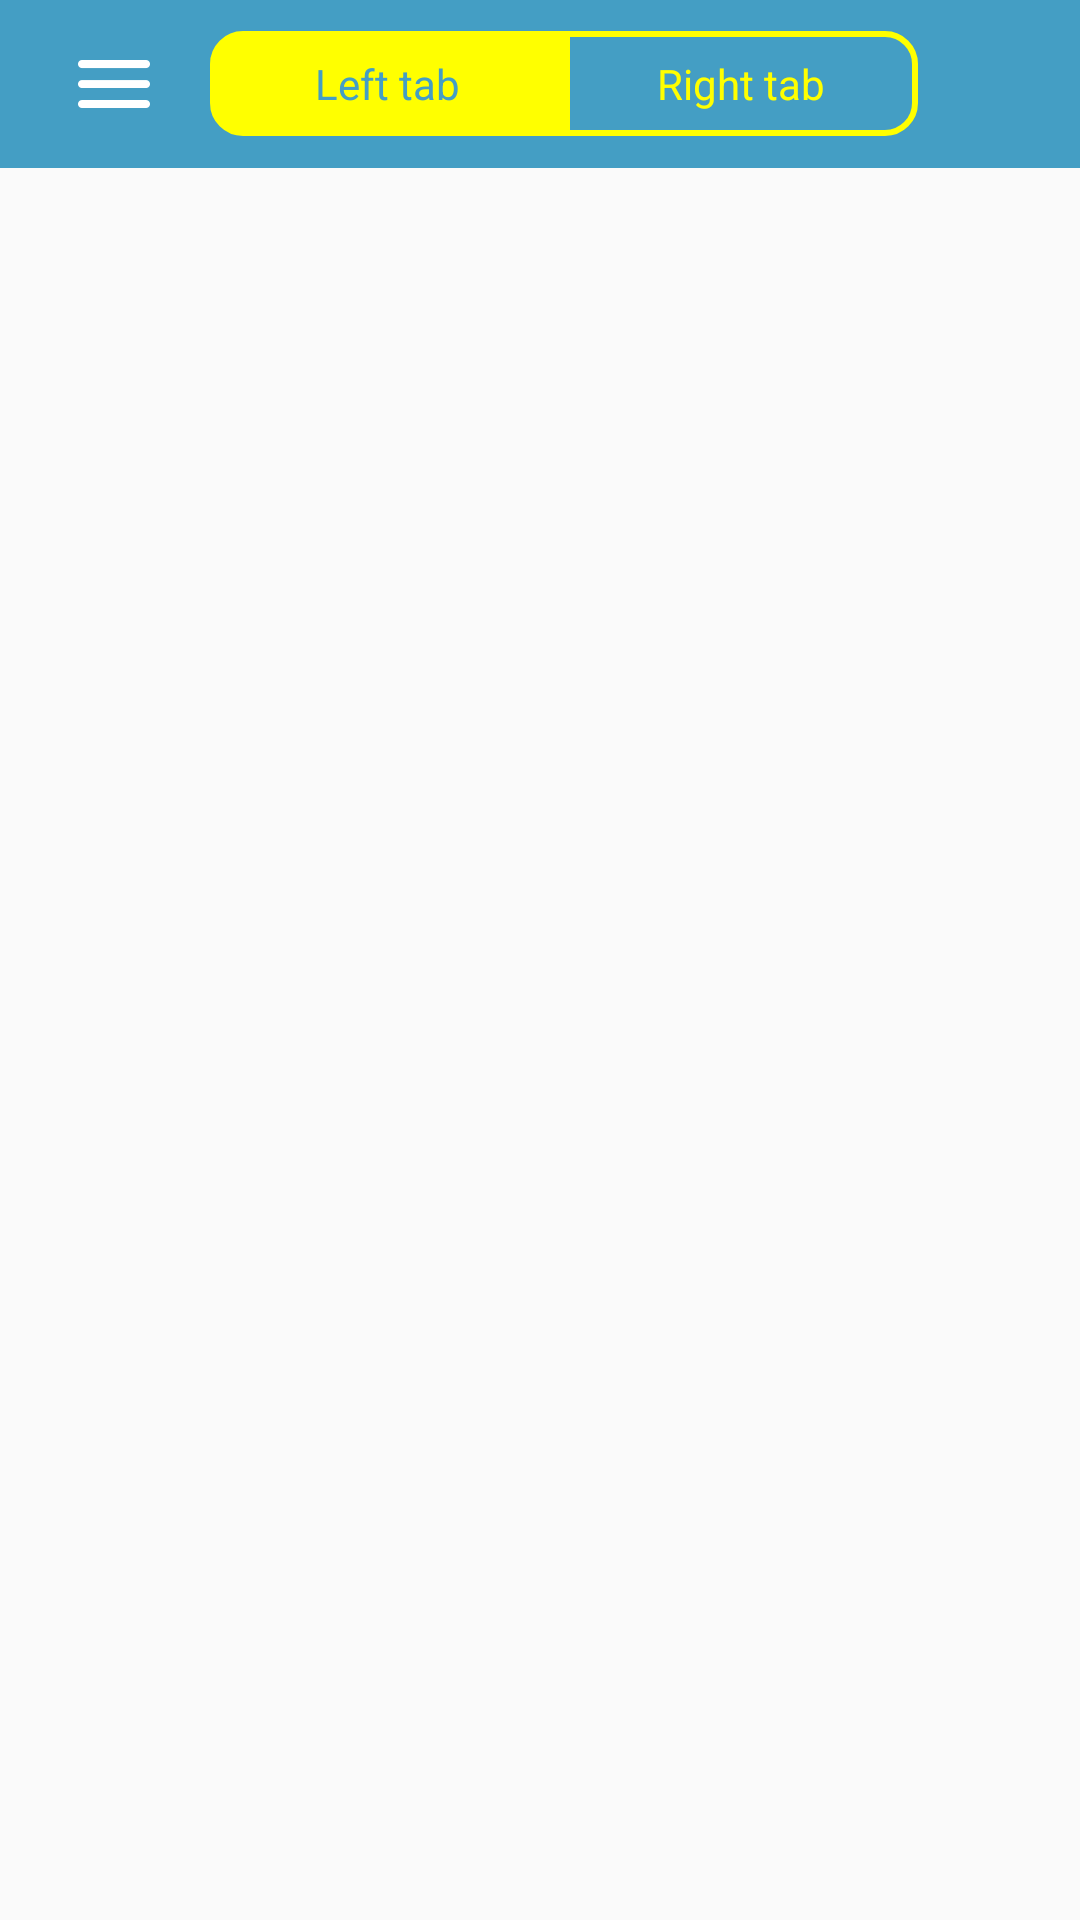

Named icons in this screenshot (1080 x 1920) and their bounding boxes, (x1, y1, x2, y2):
menu button: (78, 60, 150, 108)
